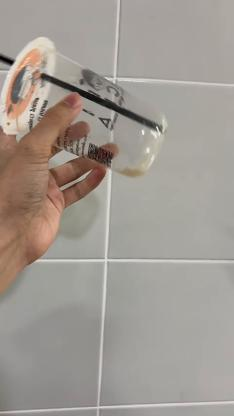Plastic Cup: (0, 38, 168, 178)
